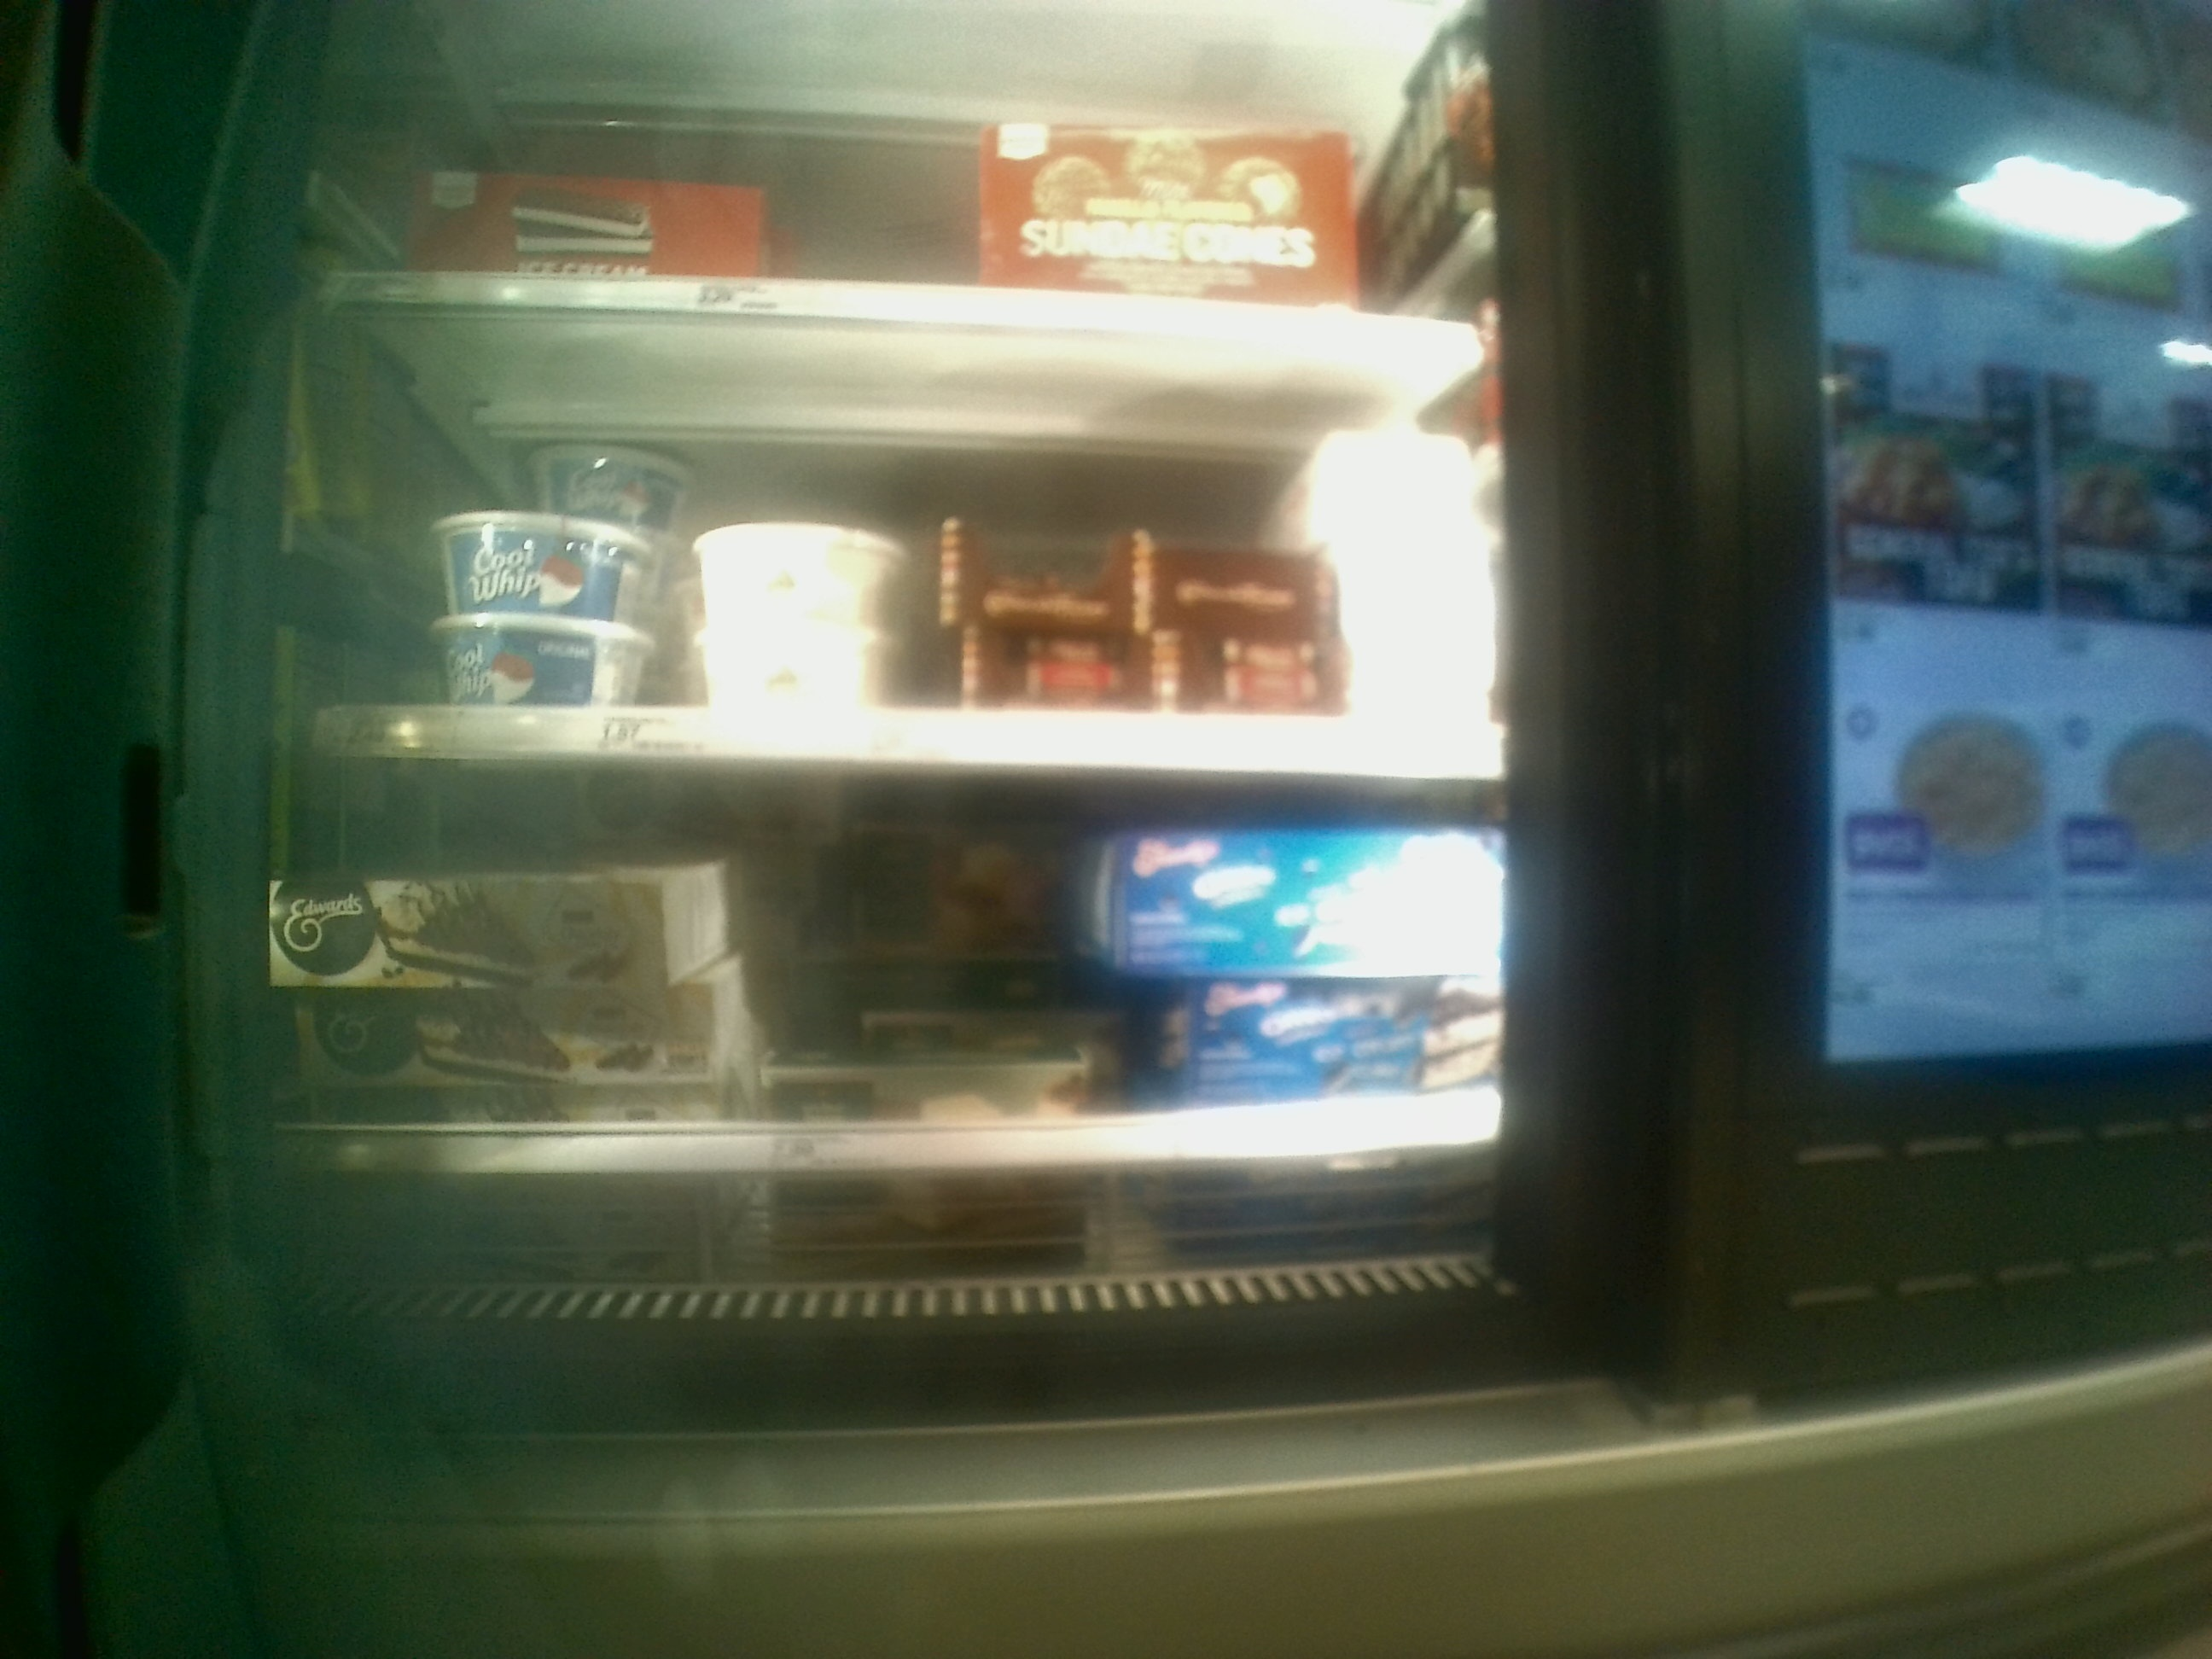shelf: (115, 767, 1545, 1260), (263, 301, 1533, 769)
